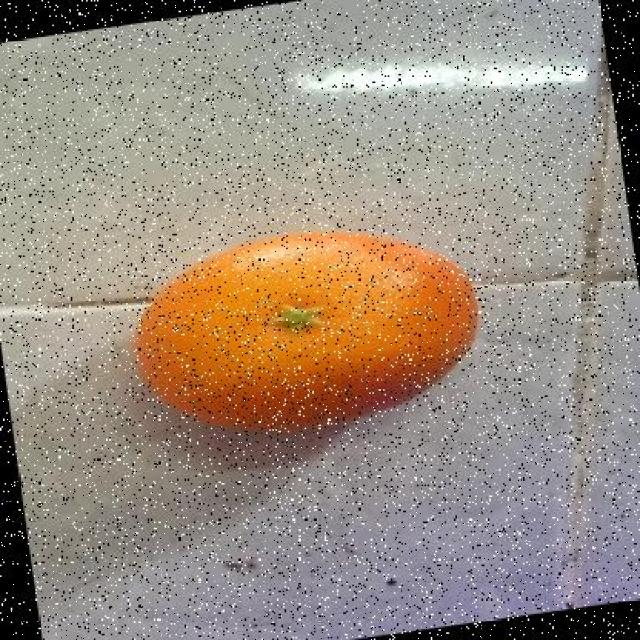Orange: (132, 228, 480, 436)
